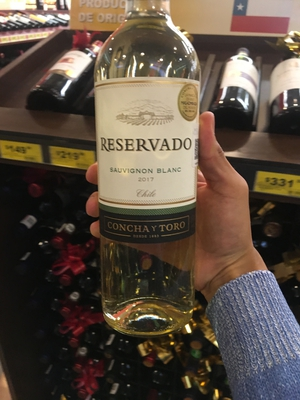reservado sauvignon blanc: (82, 9, 202, 325)
